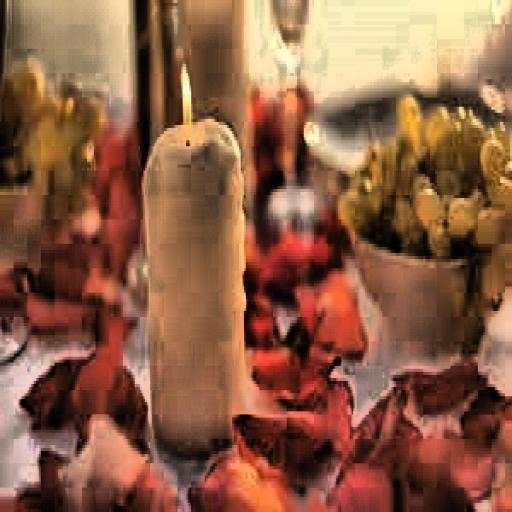fire: (176, 61, 198, 140)
